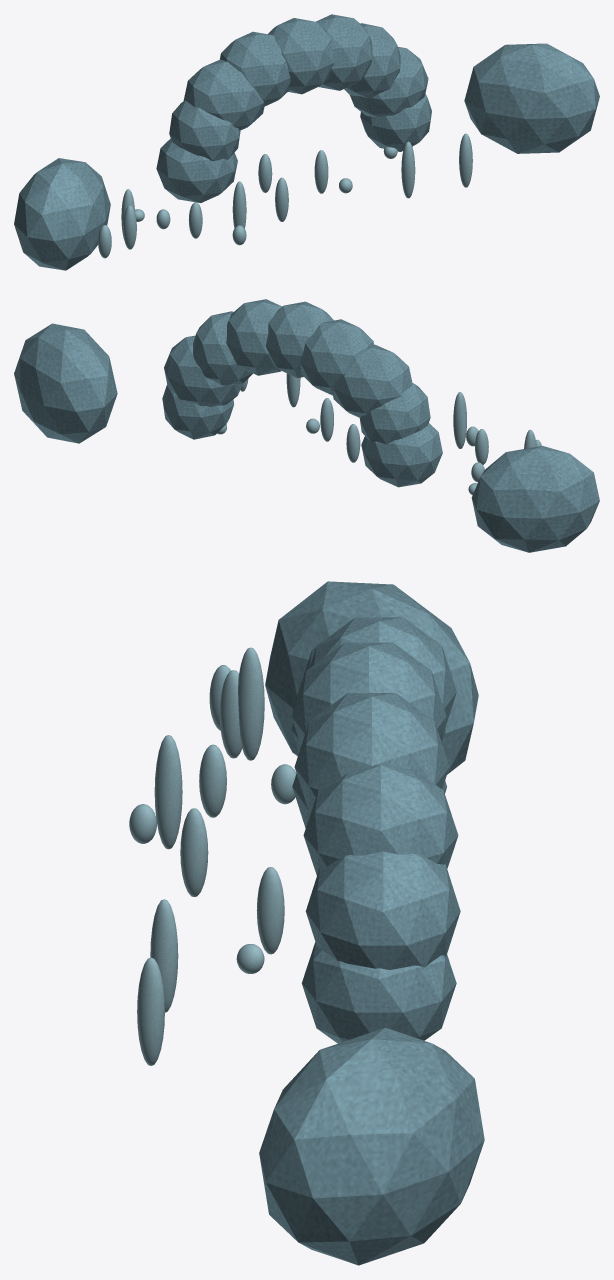
Rendered from dungeonIce-v1.glb.
3 renders of one model, top to bottom at view 1: azimuth 30°, elevation 25°; view 2: azimuth 150°, elevation 25°; view 3: azimuth 270°, elevation 25°, orthographic. The views are drawn at different scales.
Visible parts, largest first — view 1: Weathered cave rock, Fractured rock outcrop, Ice pillar 0; view 2: Weathered cave rock, Fractured rock outcrop, Ice pillar 0; view 3: Weathered cave rock, Fractured rock outcrop, Ice pillar 0.
Boxes of the visible parts, x1,y1,x2,y2 form: Weathered cave rock: (156, 14, 431, 202); Fractured rock outcrop: (14, 43, 599, 270); Ice pillar 0: (98, 133, 472, 258); Weathered cave rock: (162, 299, 442, 487); Fractured rock outcrop: (14, 323, 599, 552); Ice pillar 0: (217, 373, 541, 494); Weathered cave rock: (291, 617, 460, 1043); Fractured rock outcrop: (259, 581, 484, 1265); Ice pillar 0: (129, 647, 296, 1065).
Size of what is drawn, in the model's own units: 17.06 by 5.39 by 4.59.
Materials: 2 (2 with a texture image).
